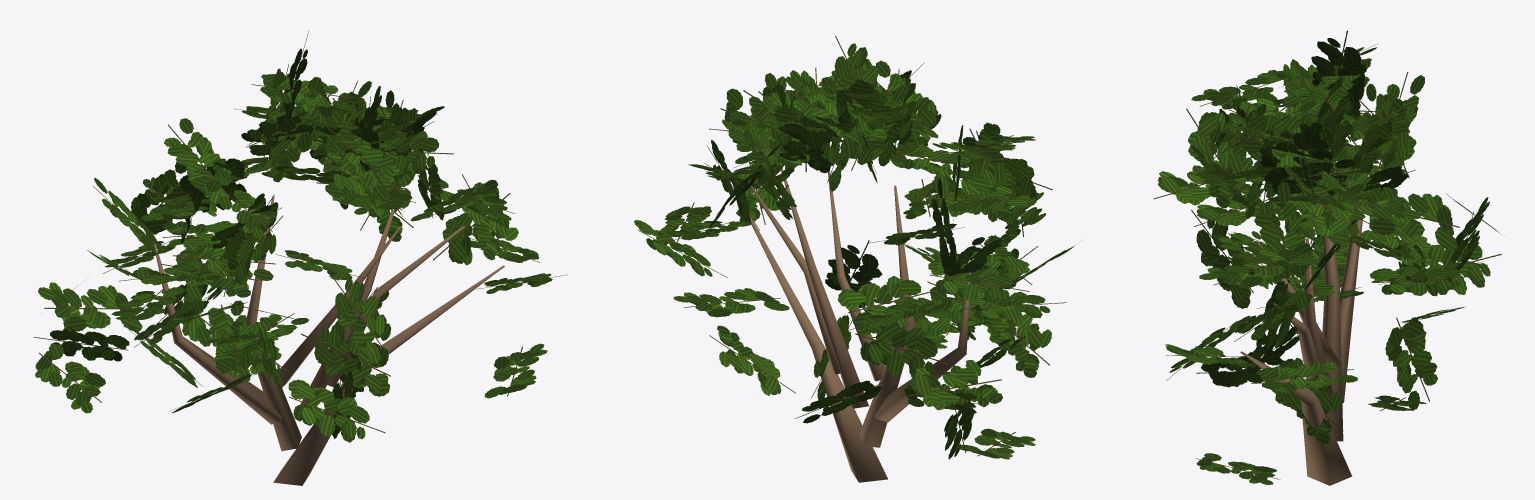
The model's file is mid.glb.
3 views of the same model, side by side, from view 1: azimuth 30°, elevation 25°; view 2: azimuth 150°, elevation 25°; view 3: azimuth 270°, elevation 25° (orthographic). The views are drawn at different scales.
Parts seen in each view (by area): view 1: foliage.001, bark.001; view 2: foliage.001, bark.001; view 3: foliage.001, bark.001.
Boxes of the visible parts, bbox=[...] form: foliage.001: bbox=[33, 31, 567, 442]; bark.001: bbox=[153, 188, 504, 485]; foliage.001: bbox=[634, 35, 1074, 459]; bark.001: bbox=[748, 168, 970, 482]; foliage.001: bbox=[1153, 30, 1501, 484]; bark.001: bbox=[1240, 152, 1370, 485].
Bounding box in the file's own units: 28.1 × 24.96 × 18.43.
2 materials, 1 textured.
